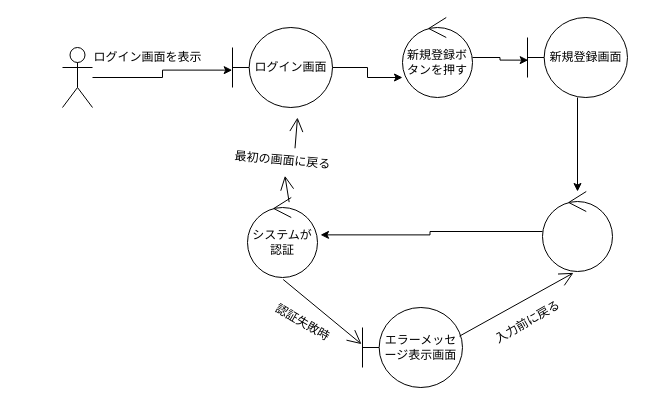
The diagram is 645 pixels wide and 405 high, and some of its shapes have lost their labels. Each missing label, with the centre of its shape:
倉庫業者 アカウント管理者 カスタマーサポーター: the point at 77,77
必要な情報を入力: the point at 577,231
